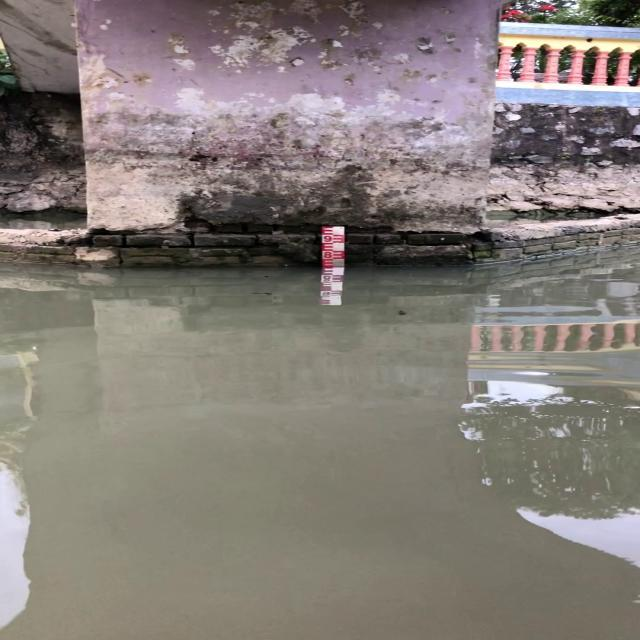ruler: (314, 219, 352, 273)
value: (322, 234, 333, 244), (322, 250, 333, 260)
